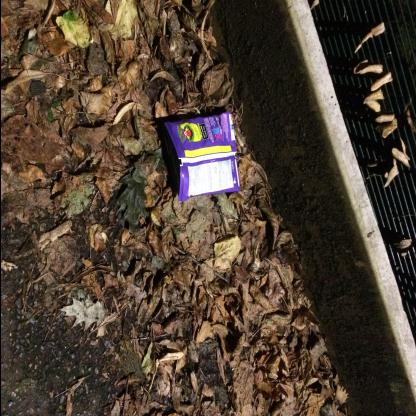plastik: (160, 111, 240, 203)
